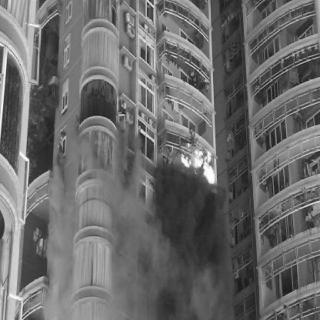Smoke: (154, 199, 228, 313), (50, 168, 68, 278)
